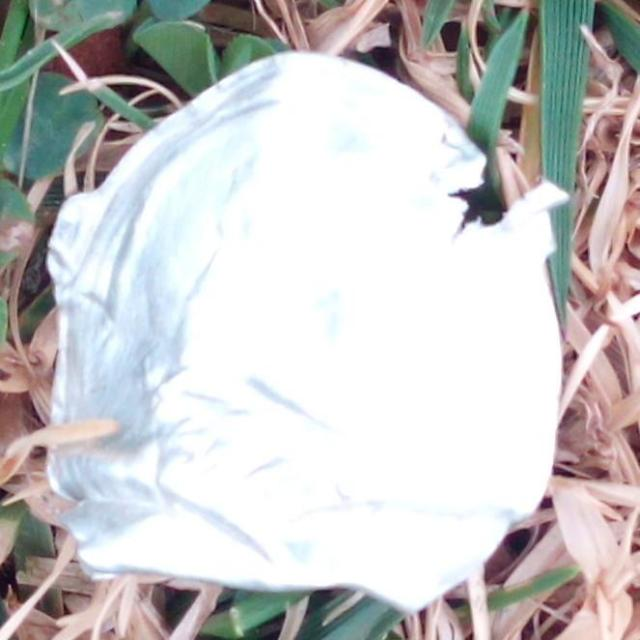litter: (42, 48, 571, 617)
